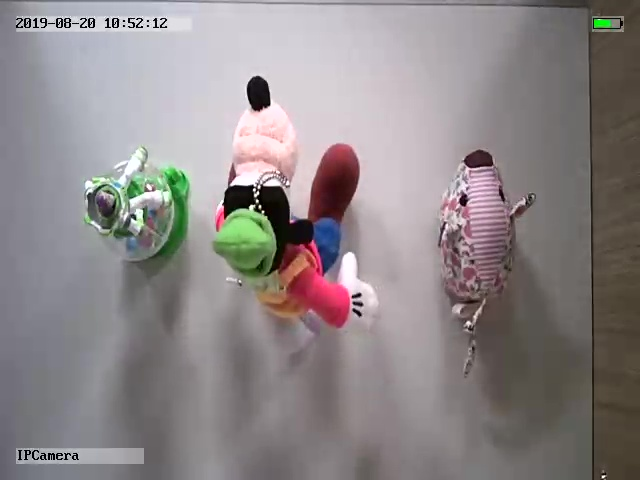buzz: (81, 144, 192, 271)
goofy: (209, 74, 380, 335)
pig: (434, 147, 536, 380)
